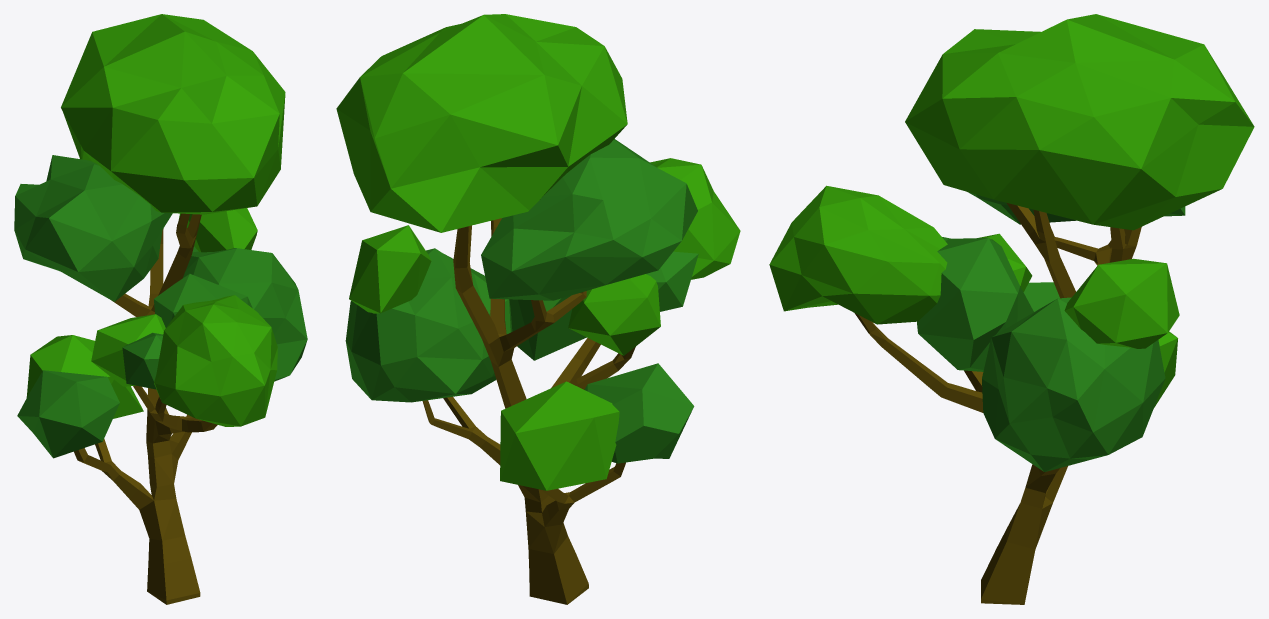
File: Tree4.fbx
The picture shows the model from 3 angles, left to right: view 1: azimuth 30°, elevation 25°; view 2: azimuth 150°, elevation 25°; view 3: azimuth 270°, elevation 25°; orthographic projection. The views are drawn at different scales.
Parts seen in each view (by area): view 1: Cube.004; view 2: Cube.004; view 3: Cube.004.
Boxes of the visible parts, x1,y1,x2,y2 form: Cube.004: [14, 14, 307, 604]; Cube.004: [336, 14, 740, 604]; Cube.004: [769, 14, 1254, 604].
Bounding box in the file's own units: 900 × 1596 × 1174.
